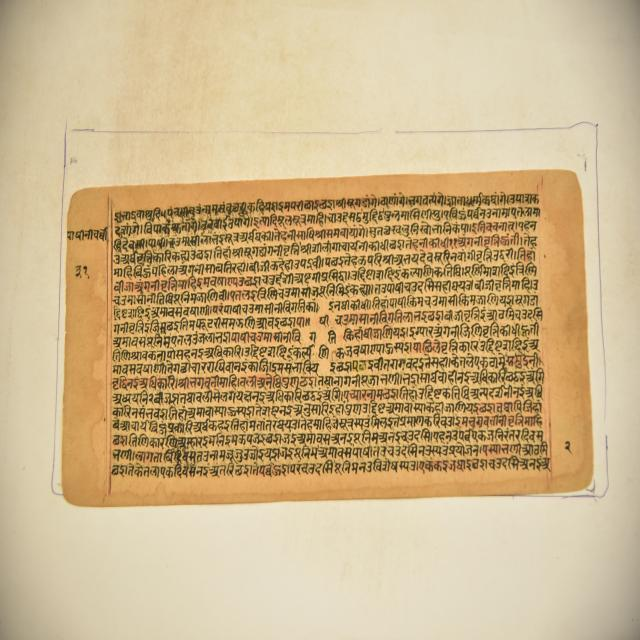text_paragraph: (58, 171, 593, 500)
